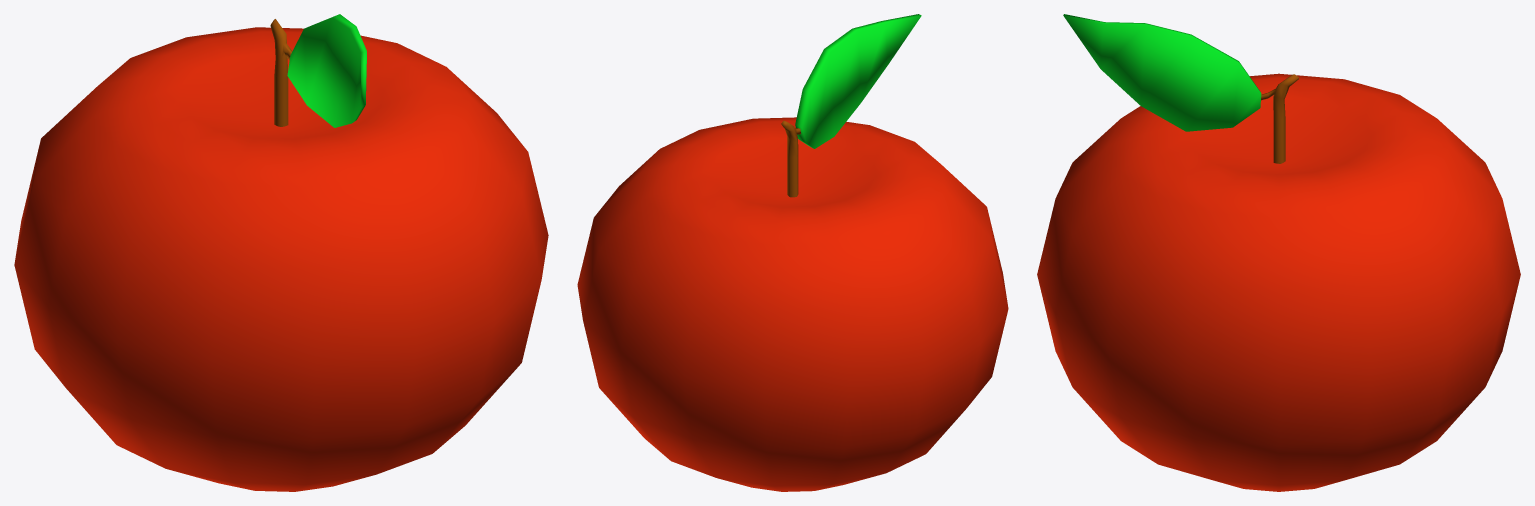
File: apple.glb
3 views of the same model, side by side, from view 1: azimuth 30°, elevation 25°; view 2: azimuth 150°, elevation 25°; view 3: azimuth 270°, elevation 25° (orthographic). The views are drawn at different scales.
Parts seen in each view (by area): view 1: Circle; view 2: Circle; view 3: Circle.
Part boxes in pixels (x1=…): Circle: x1=14, y1=14, x2=548, y2=491; Circle: x1=577, y1=14, x2=1008, y2=491; Circle: x1=1037, y1=14, x2=1520, y2=491.
Bounding box in the file's own units: 2 × 2.01 × 2.
